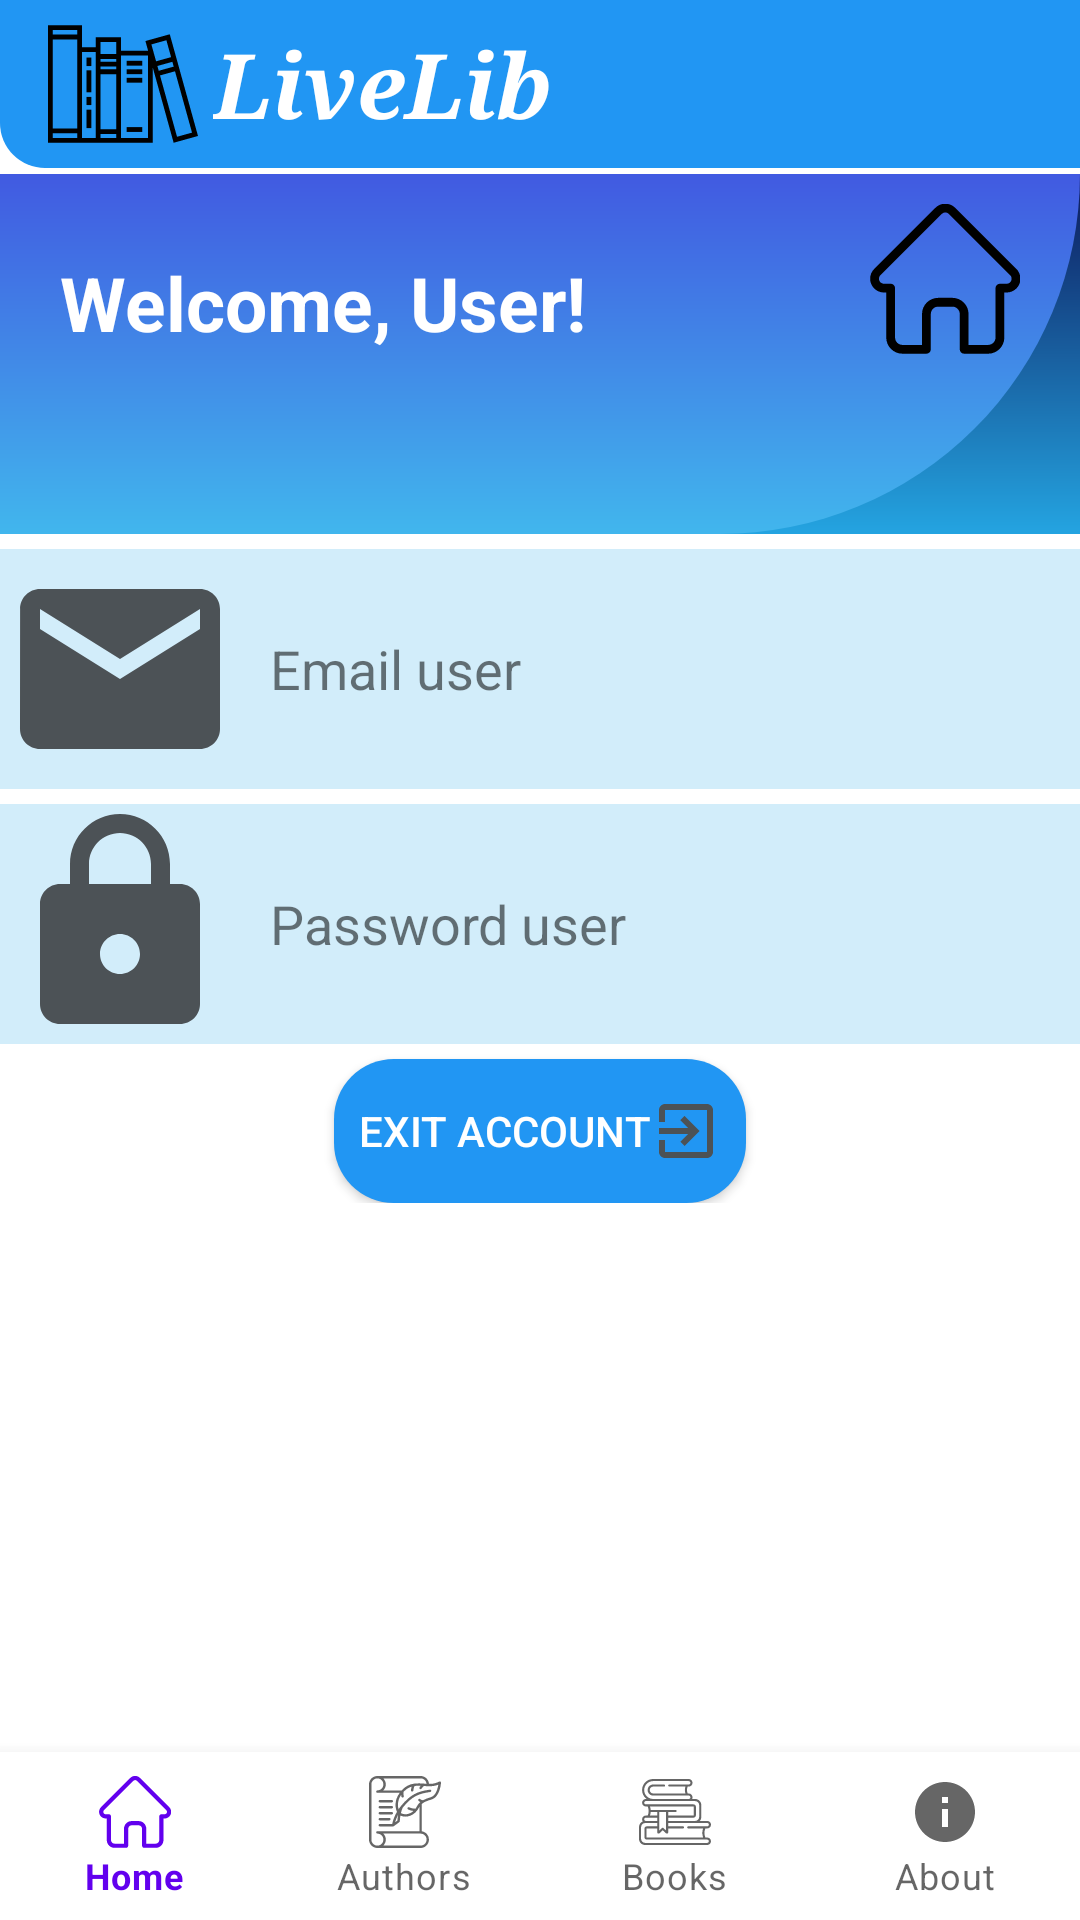

Named icons in this screenshot (1080x1920) and their centers, (x,y):
home: (945,279)
lock: (120,919)
